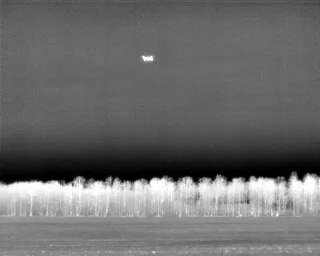DRONE: (138, 50, 158, 66)
